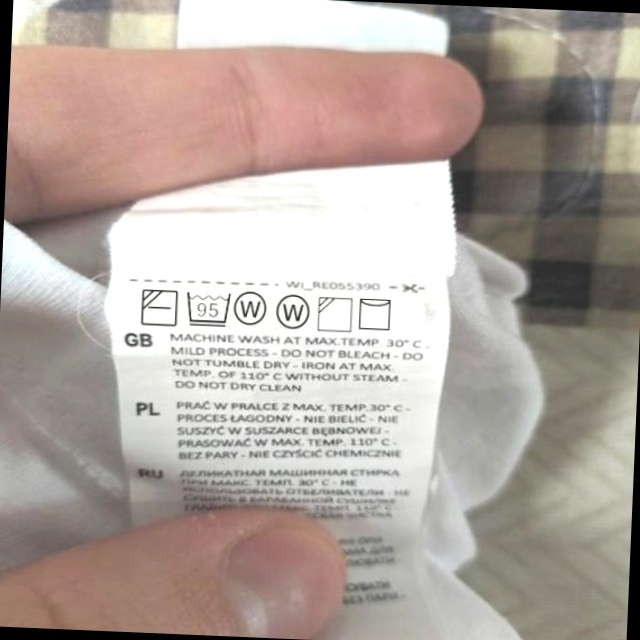95C: (184, 288, 233, 328)
dry_flat_in_shade: (139, 285, 179, 329)
line_dry: (356, 294, 396, 333)
shade_dry: (315, 294, 355, 334)
wet_clean: (274, 292, 312, 333), (234, 286, 270, 328)
